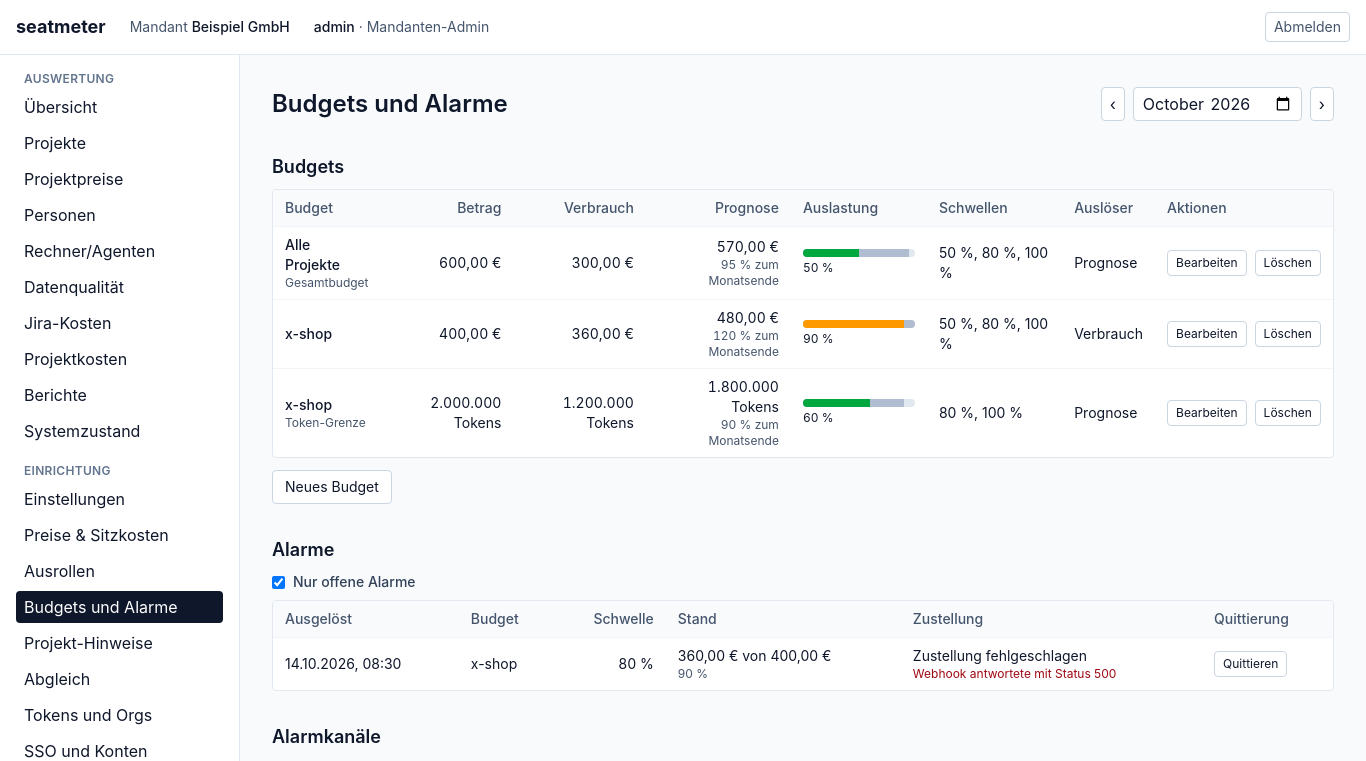
Test: Alarme › quittiert einen Alarm über /quittieren und lädt die Liste neu
The image size is (1366, 761).
Click the button "Quittieren" at point(1251, 664), box [1214,651,1287,677]
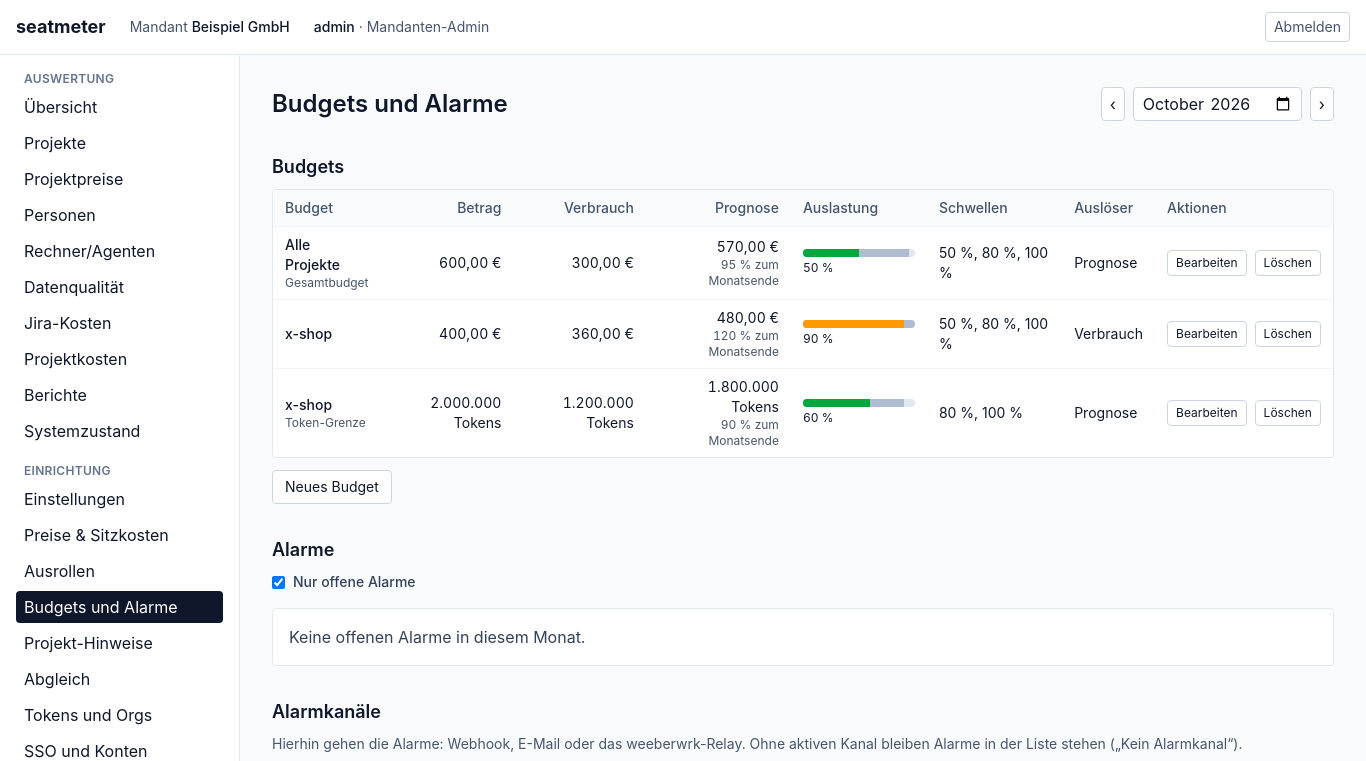
Expected: the text "Keine offenen Alarme in diesem Monat." is shown, [272,608,1334,666]
